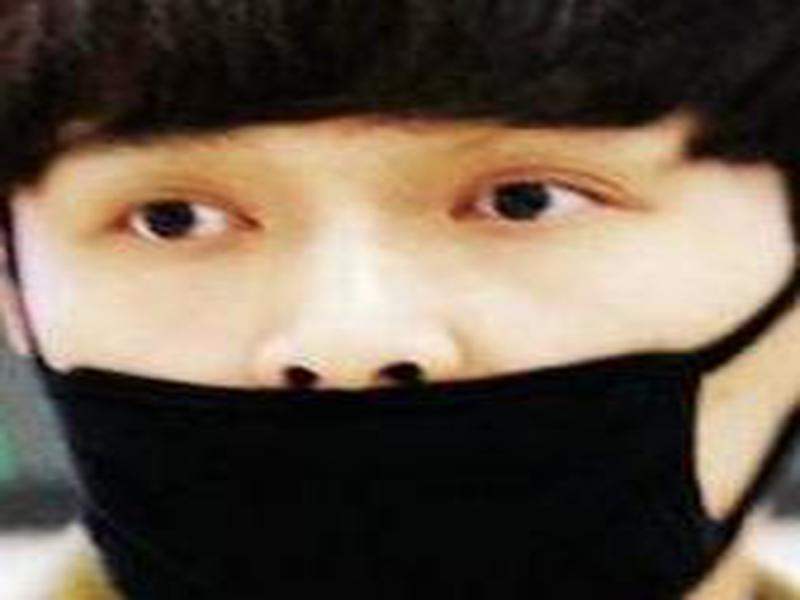with_mask: (1, 107, 800, 600)
